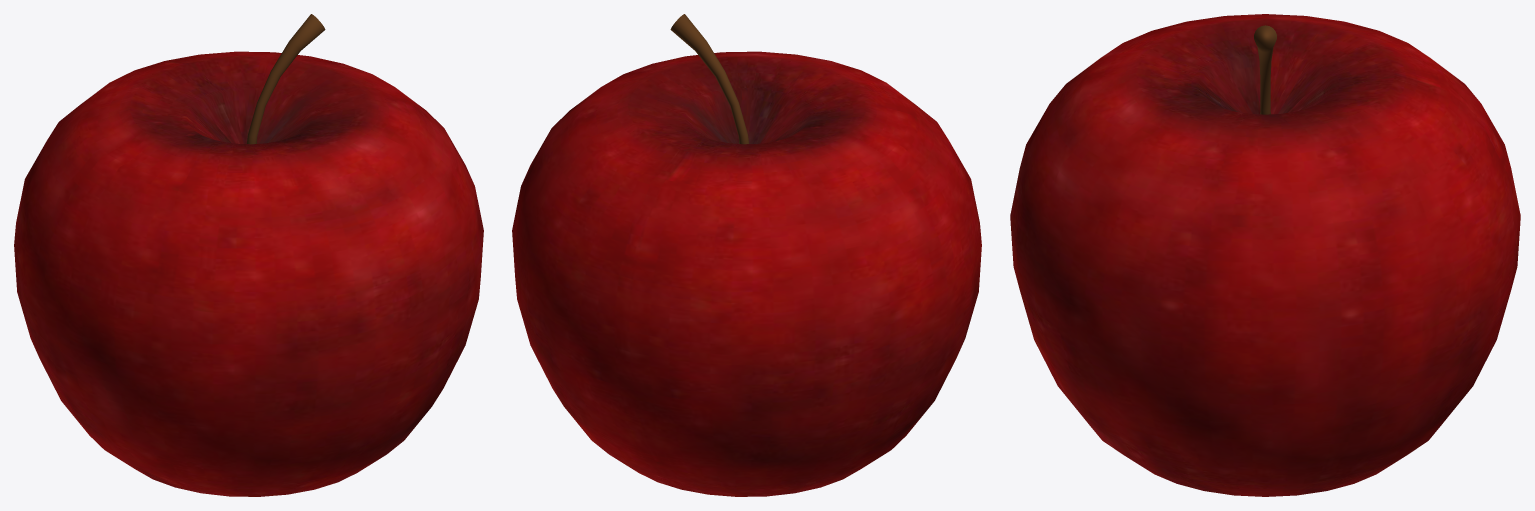
Rendered from apple_model.FBX.
3 views of the same model, side by side, from view 1: azimuth 30°, elevation 25°; view 2: azimuth 150°, elevation 25°; view 3: azimuth 270°, elevation 25° (orthographic). The views are drawn at different scales.
Parts seen in each view (by area): view 1: jabuka; view 2: jabuka; view 3: jabuka.
Part boxes in pixels (left/top/right/bottom): jabuka: left=14, top=14, right=483, bottom=496; jabuka: left=512, top=14, right=981, bottom=496; jabuka: left=1010, top=14, right=1520, bottom=496.
Size of the model in its own units: 10.13 by 10.01 by 10.13.
2 materials, 1 textured.
